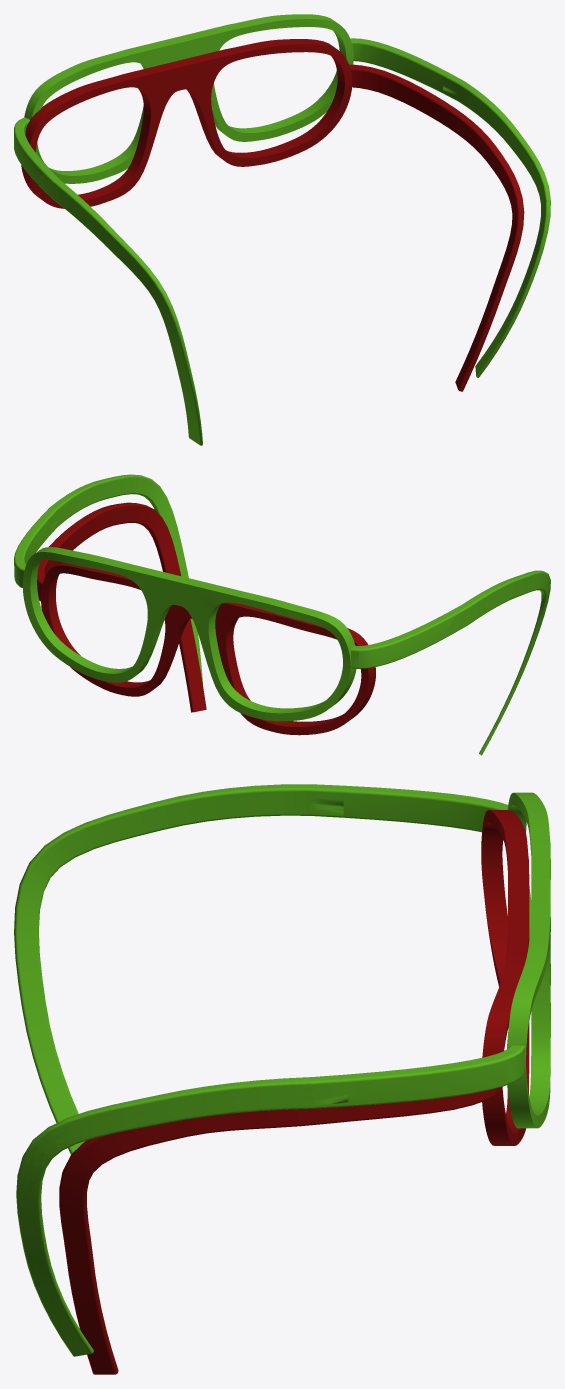
Rendered from glasses_leon_2.obj.
3 views of the same model, one above another, from view 1: azimuth 30°, elevation 25°; view 2: azimuth 150°, elevation 25°; view 3: azimuth 270°, elevation 25° (orthographic). The views are drawn at different scales.
Visible parts, largest first — view 1: Loft014, Line043; view 2: Loft014, Line043; view 3: Loft014, Line043.
Boxes of the visible parts, <box> form: Loft014: <box>14,14,550,445</box>; Line043: <box>21,39,524,391</box>; Loft014: <box>14,474,550,755</box>; Line043: <box>37,502,375,735</box>; Loft014: <box>14,784,550,1356</box>; Line043: <box>59,810,529,1374</box>.
Size of the model in its own units: 134 by 83.6 by 102.
